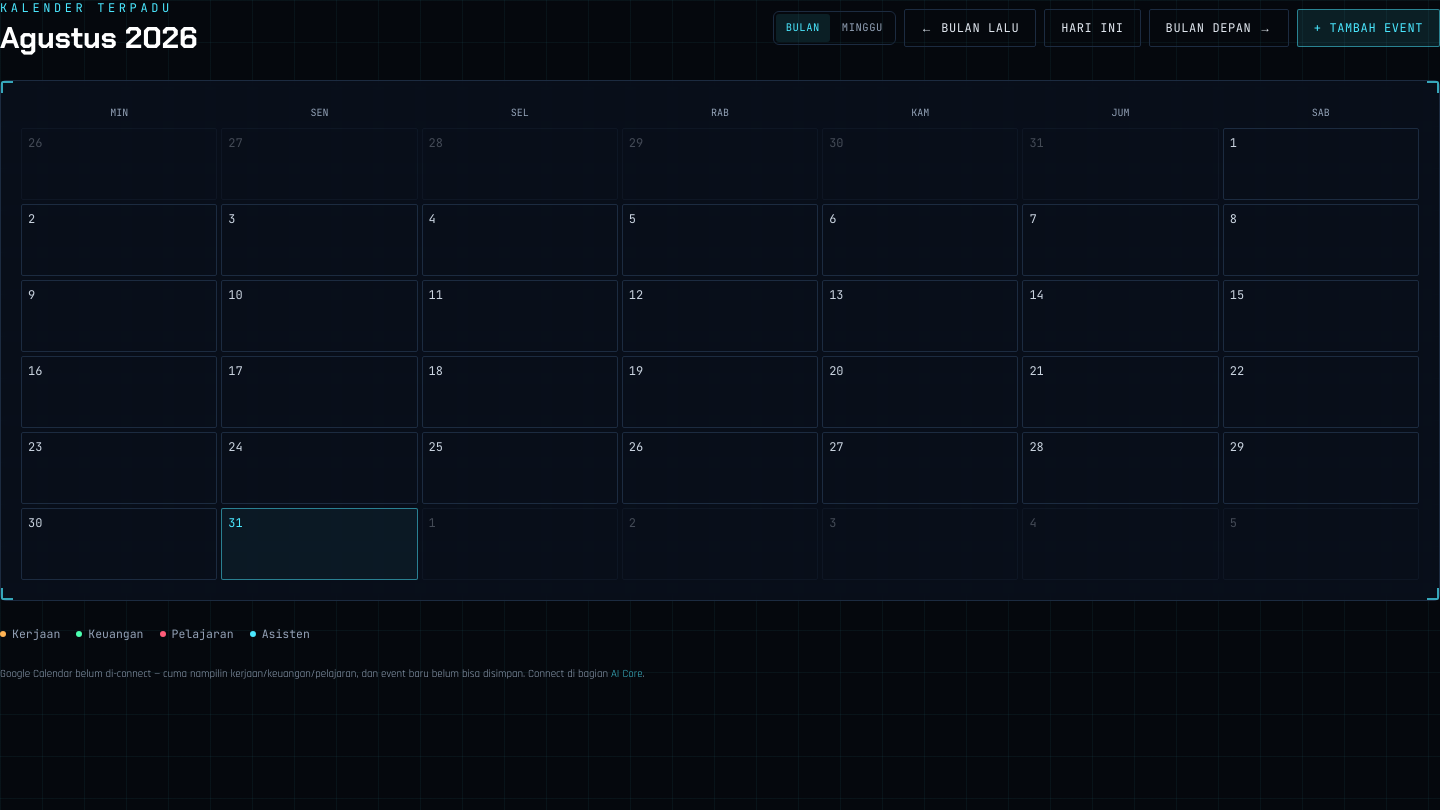
KalenderPage › shows an empty state for a day with nothing scheduled
What coordinates should you click on to do the following:
click the 2nd button "31"
I would click on:
 (319, 544)
Its box is [221,508,418,580].
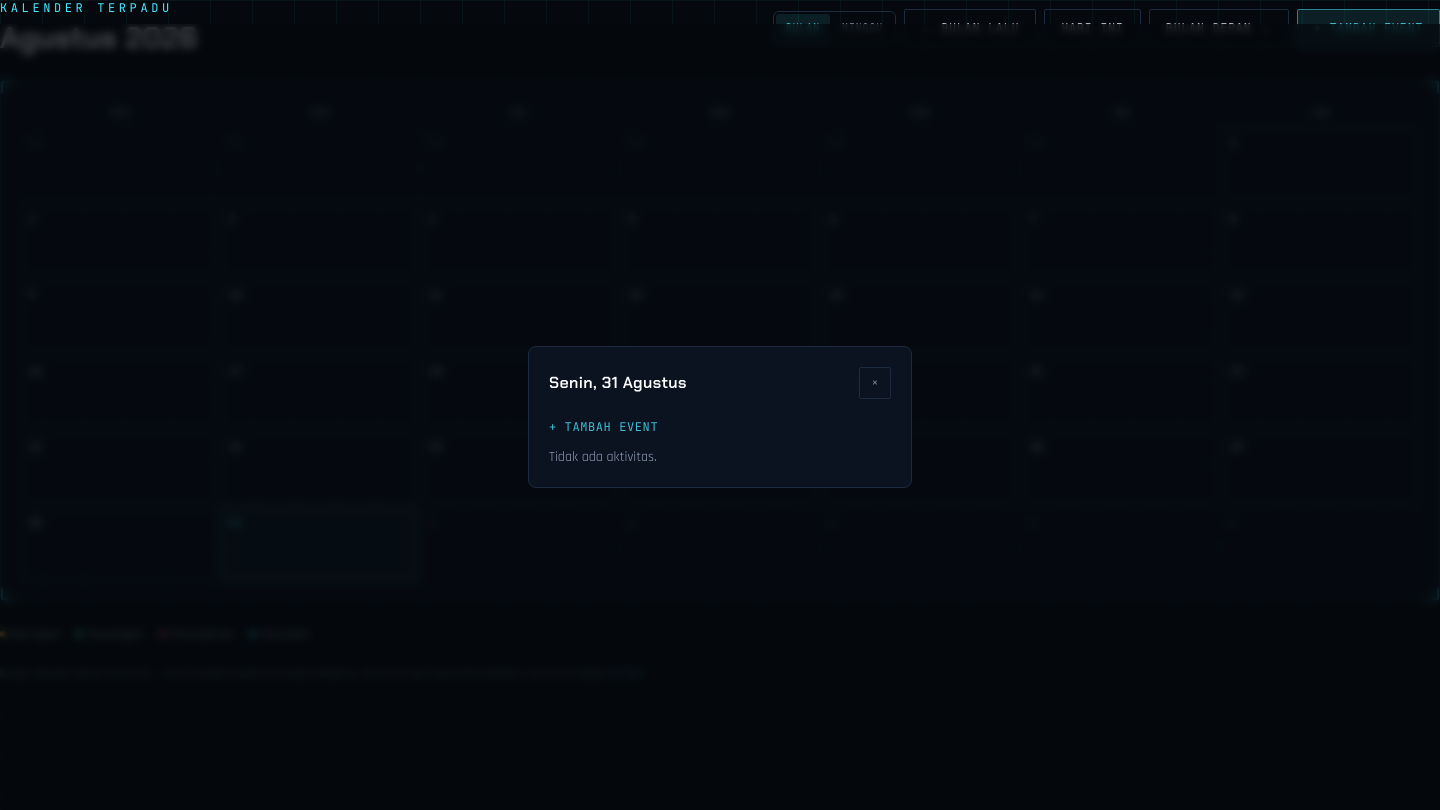
Result: the text "Tidak ada aktivitas." is shown at [549,448,657,466]
